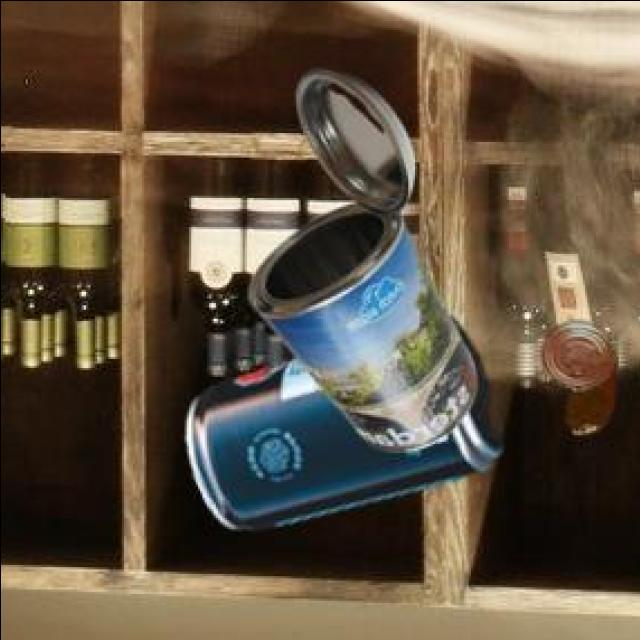logam: (245, 73, 471, 453), (182, 319, 498, 531), (536, 323, 610, 437)
